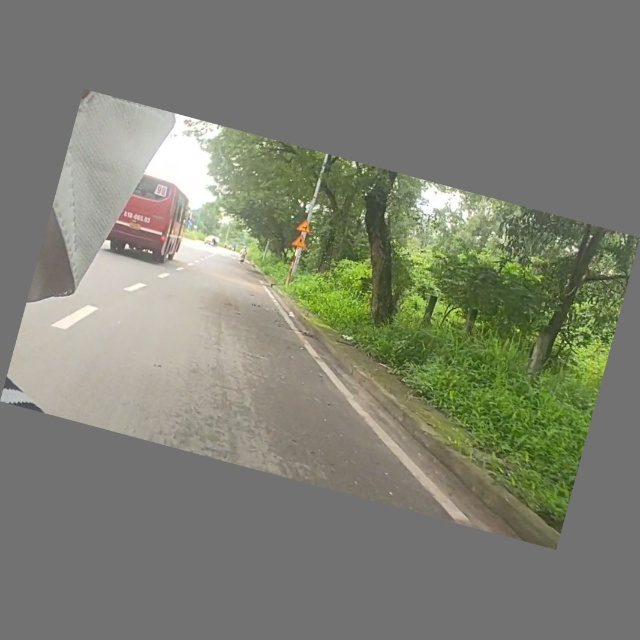W.205c: (297, 218, 315, 236)
W.224: (290, 232, 312, 251)
